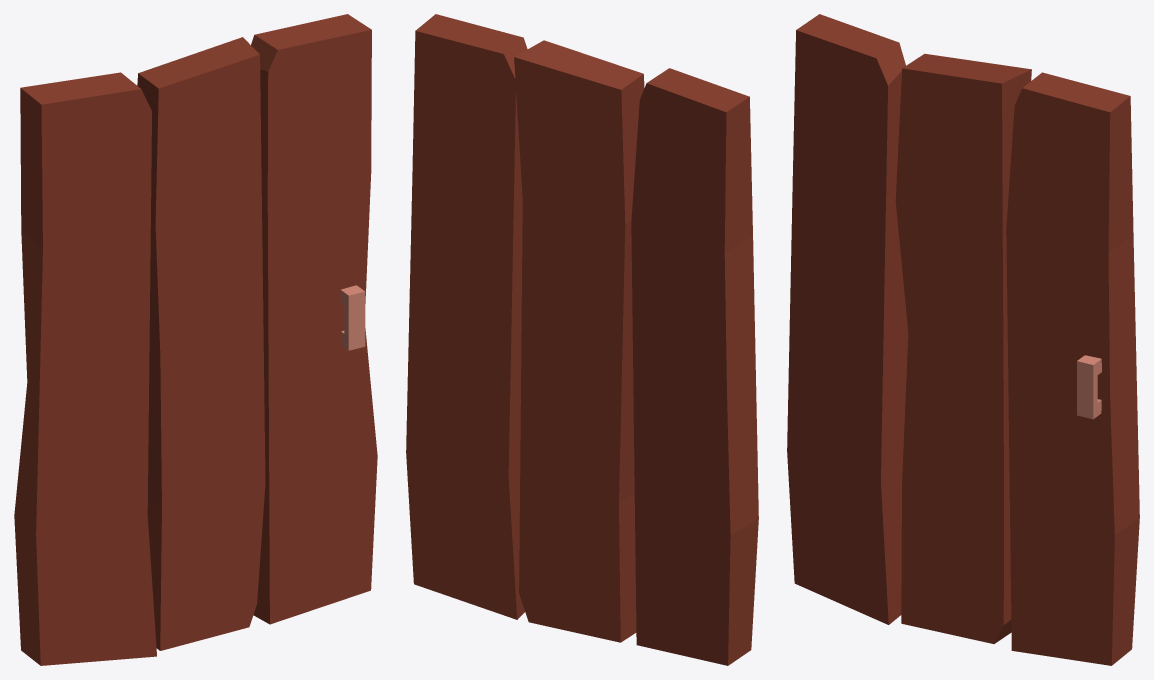
Rendered from door_2a.fbx.
3 views of the same model, side by side, from view 1: azimuth 30°, elevation 25°; view 2: azimuth 150°, elevation 25°; view 3: azimuth 330°, elevation 25° (orthographic).
Parts seen in each view (by area): view 1: door_2a; view 2: door_2a; view 3: door_2a.
Boxes of the visible parts, left/top/right/bottom form: door_2a: left=14, top=14, right=377, bottom=665; door_2a: left=406, top=14, right=758, bottom=665; door_2a: left=787, top=14, right=1139, bottom=665.
Bounding box in the file's own units: 126 × 205 × 22.59.
